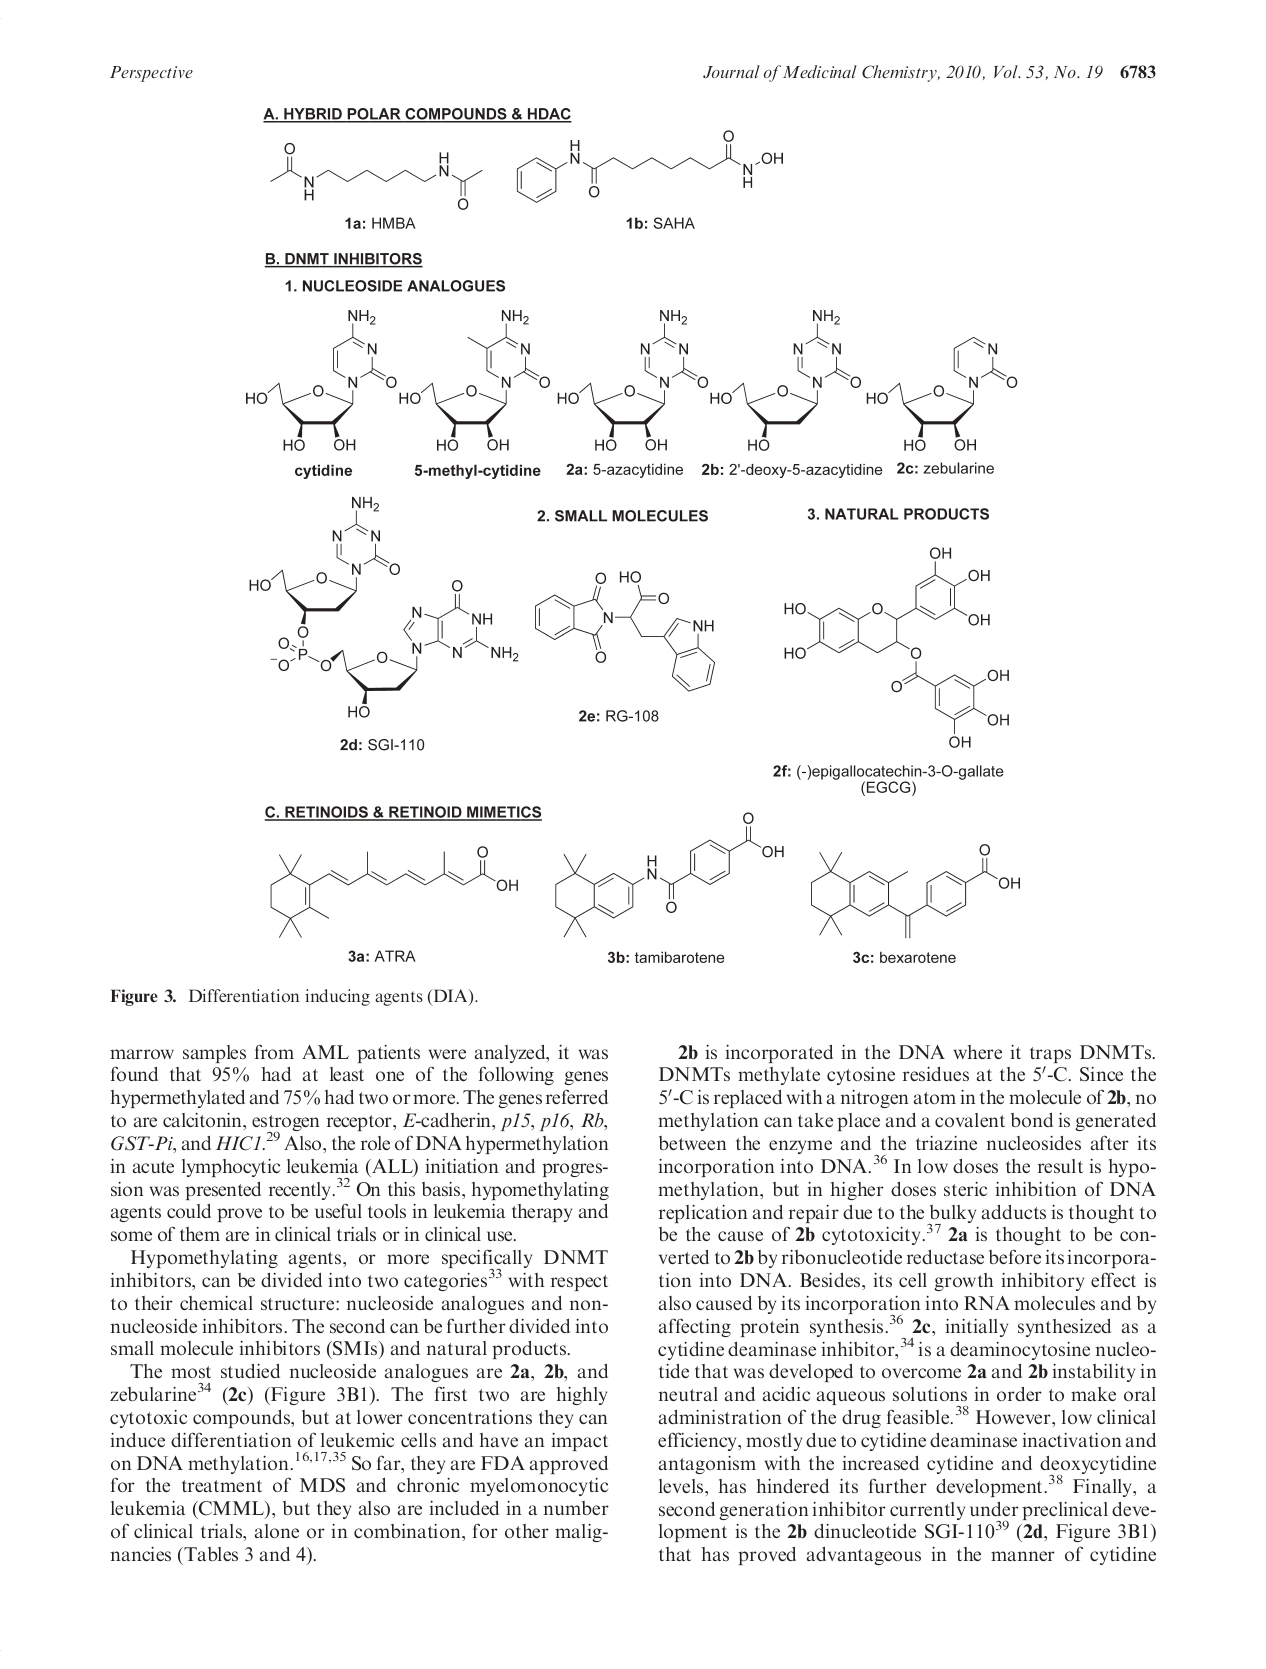exist_molecular: (243, 491, 520, 721), (778, 535, 1023, 751), (551, 805, 789, 940), (509, 121, 794, 211), (266, 844, 531, 940), (243, 301, 402, 457), (707, 301, 866, 456), (394, 301, 555, 453), (801, 838, 1027, 946), (555, 301, 709, 457), (531, 567, 719, 693), (862, 332, 1016, 453), (266, 138, 495, 207)
